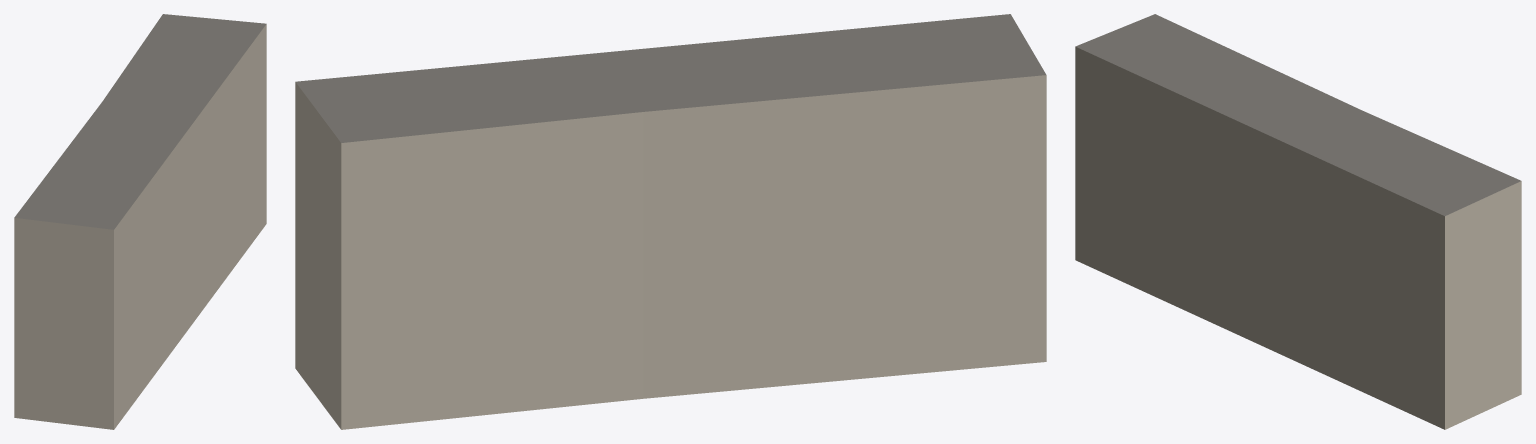
The picture shows the model from 3 angles, left to right: view 1: azimuth 30°, elevation 25°; view 2: azimuth 150°, elevation 25°; view 3: azimuth 270°, elevation 25°; orthographic projection. The views are drawn at different scales.
Parts seen in each view (by area): view 1: HP-w729793774; view 2: HP-w729793774; view 3: HP-w729793774.
Part boxes in pixels (x1=…): HP-w729793774: x1=14, y1=14, x2=266, y2=429; HP-w729793774: x1=295, y1=14, x2=1046, y2=429; HP-w729793774: x1=1075, y1=14, x2=1521, y2=429.
Bounding box in the file's own units: 36.55 × 18 × 34.08.
